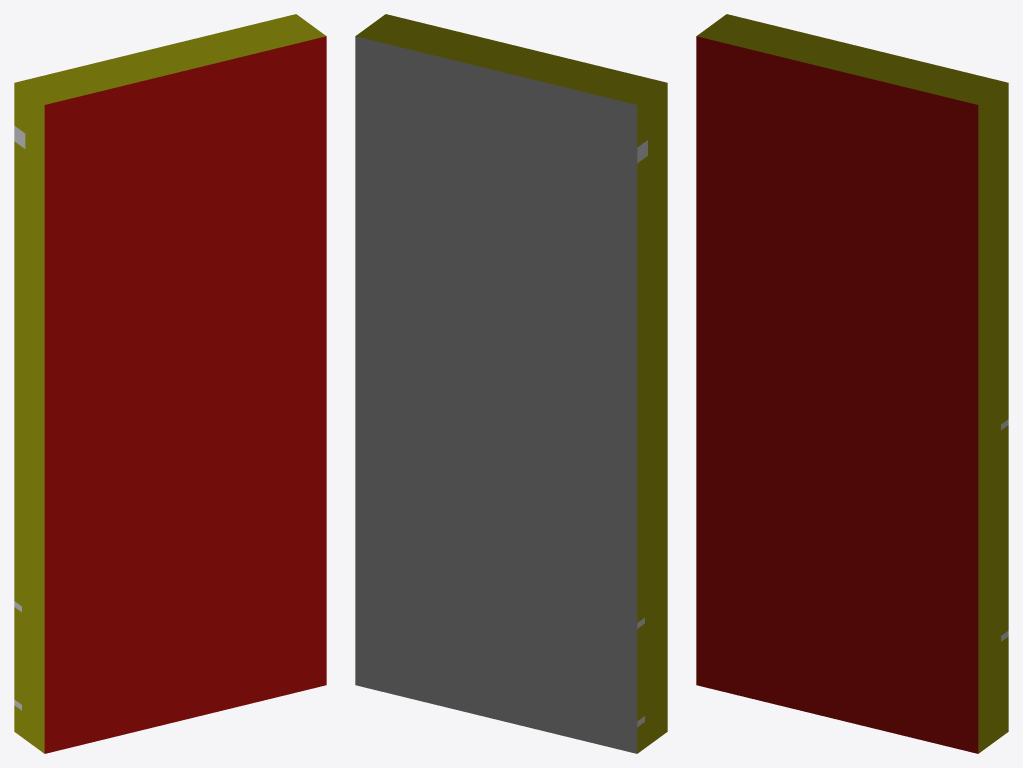
Rendered from idf.obj.
3 renders of one model, left to right at view 1: azimuth 30°, elevation 25°; view 2: azimuth 150°, elevation 25°; view 3: azimuth 330°, elevation 25°, orthographic.
Size of the model in its own units: 45.72 by 101 by 8.53.
